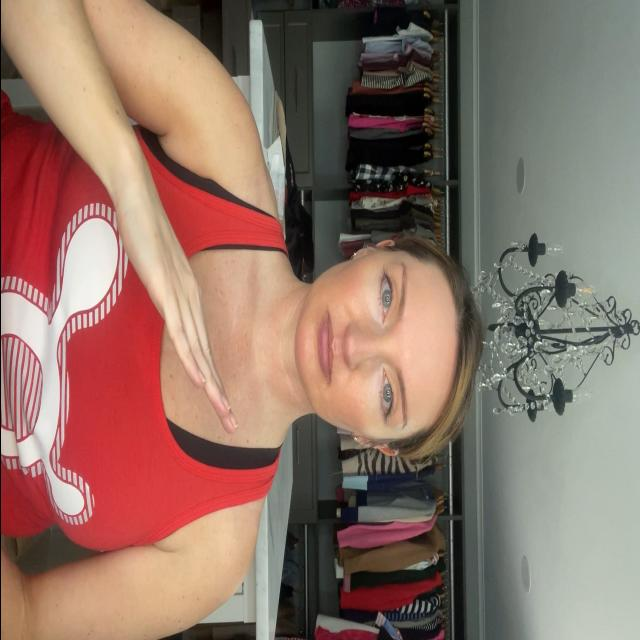Paper: (116, 160, 236, 427)
